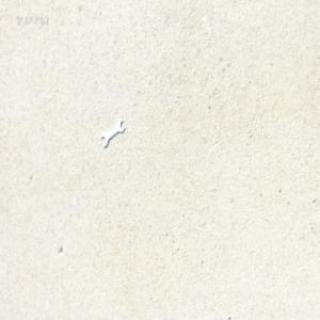Wrenchtrack_idkeyframe: (99, 117, 123, 146)
